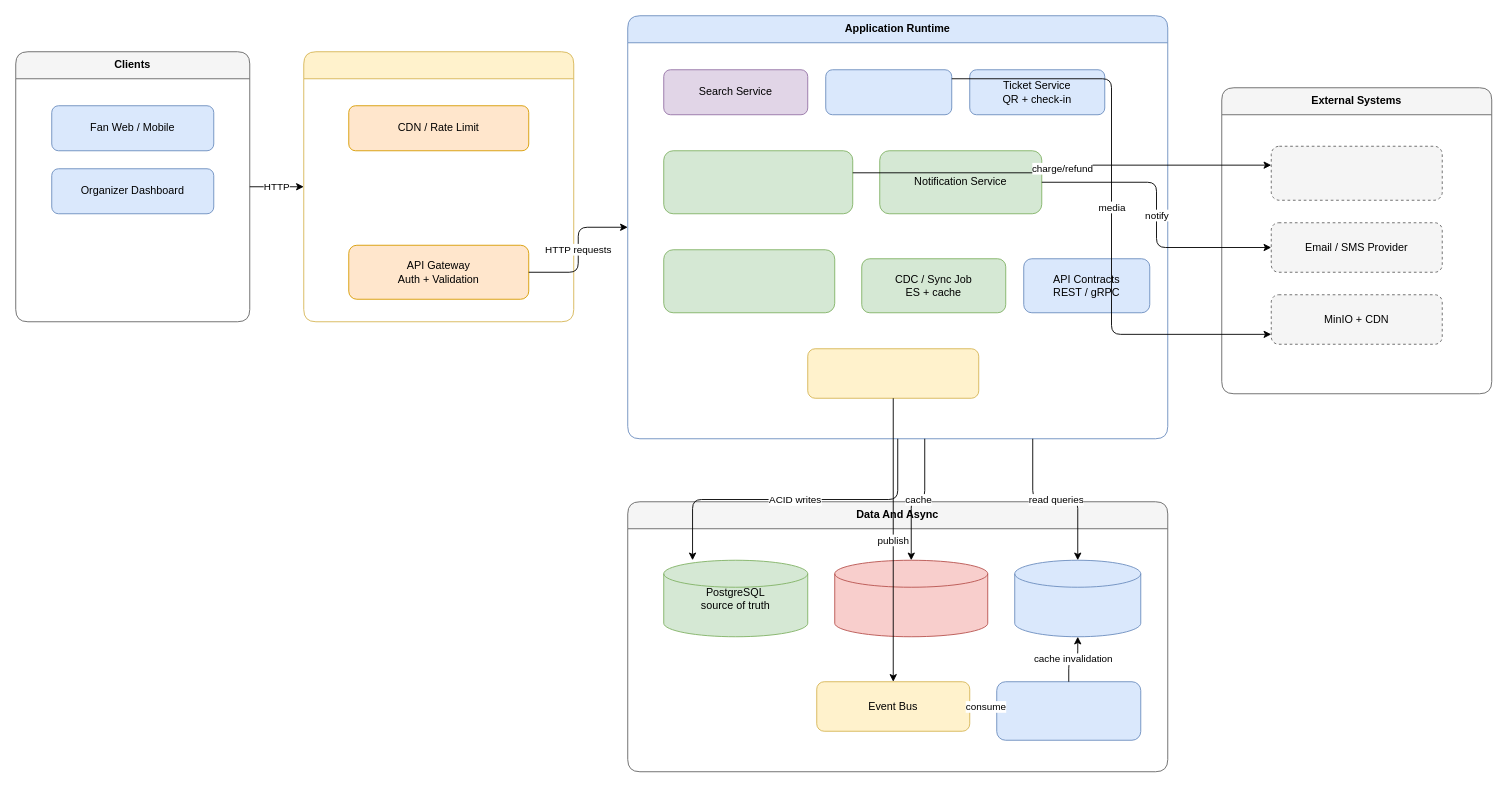
The diagram is 1508 pixels wide and 788 high, and some of its shapes have lost their labels. The box of each missing label's shape, as (x1, y1, x2, y2) in pixels:
Booking Service event + reservation: (825, 69, 952, 115)
Edge: (303, 51, 574, 322)
Elasticsearch event discovery: (1014, 559, 1141, 637)
Payment Service PSP adapter: (663, 150, 853, 214)
PSP Stripe / PayOS / MoMo: (1270, 145, 1442, 200)
Redis cache, rate limit, TTL hints: (834, 559, 988, 637)
Reservation Expiry Worker: (663, 249, 835, 313)
Transactional Outbox: (807, 348, 979, 398)
Workers Reservation Expiry, CDC/Sync: (996, 681, 1141, 740)
